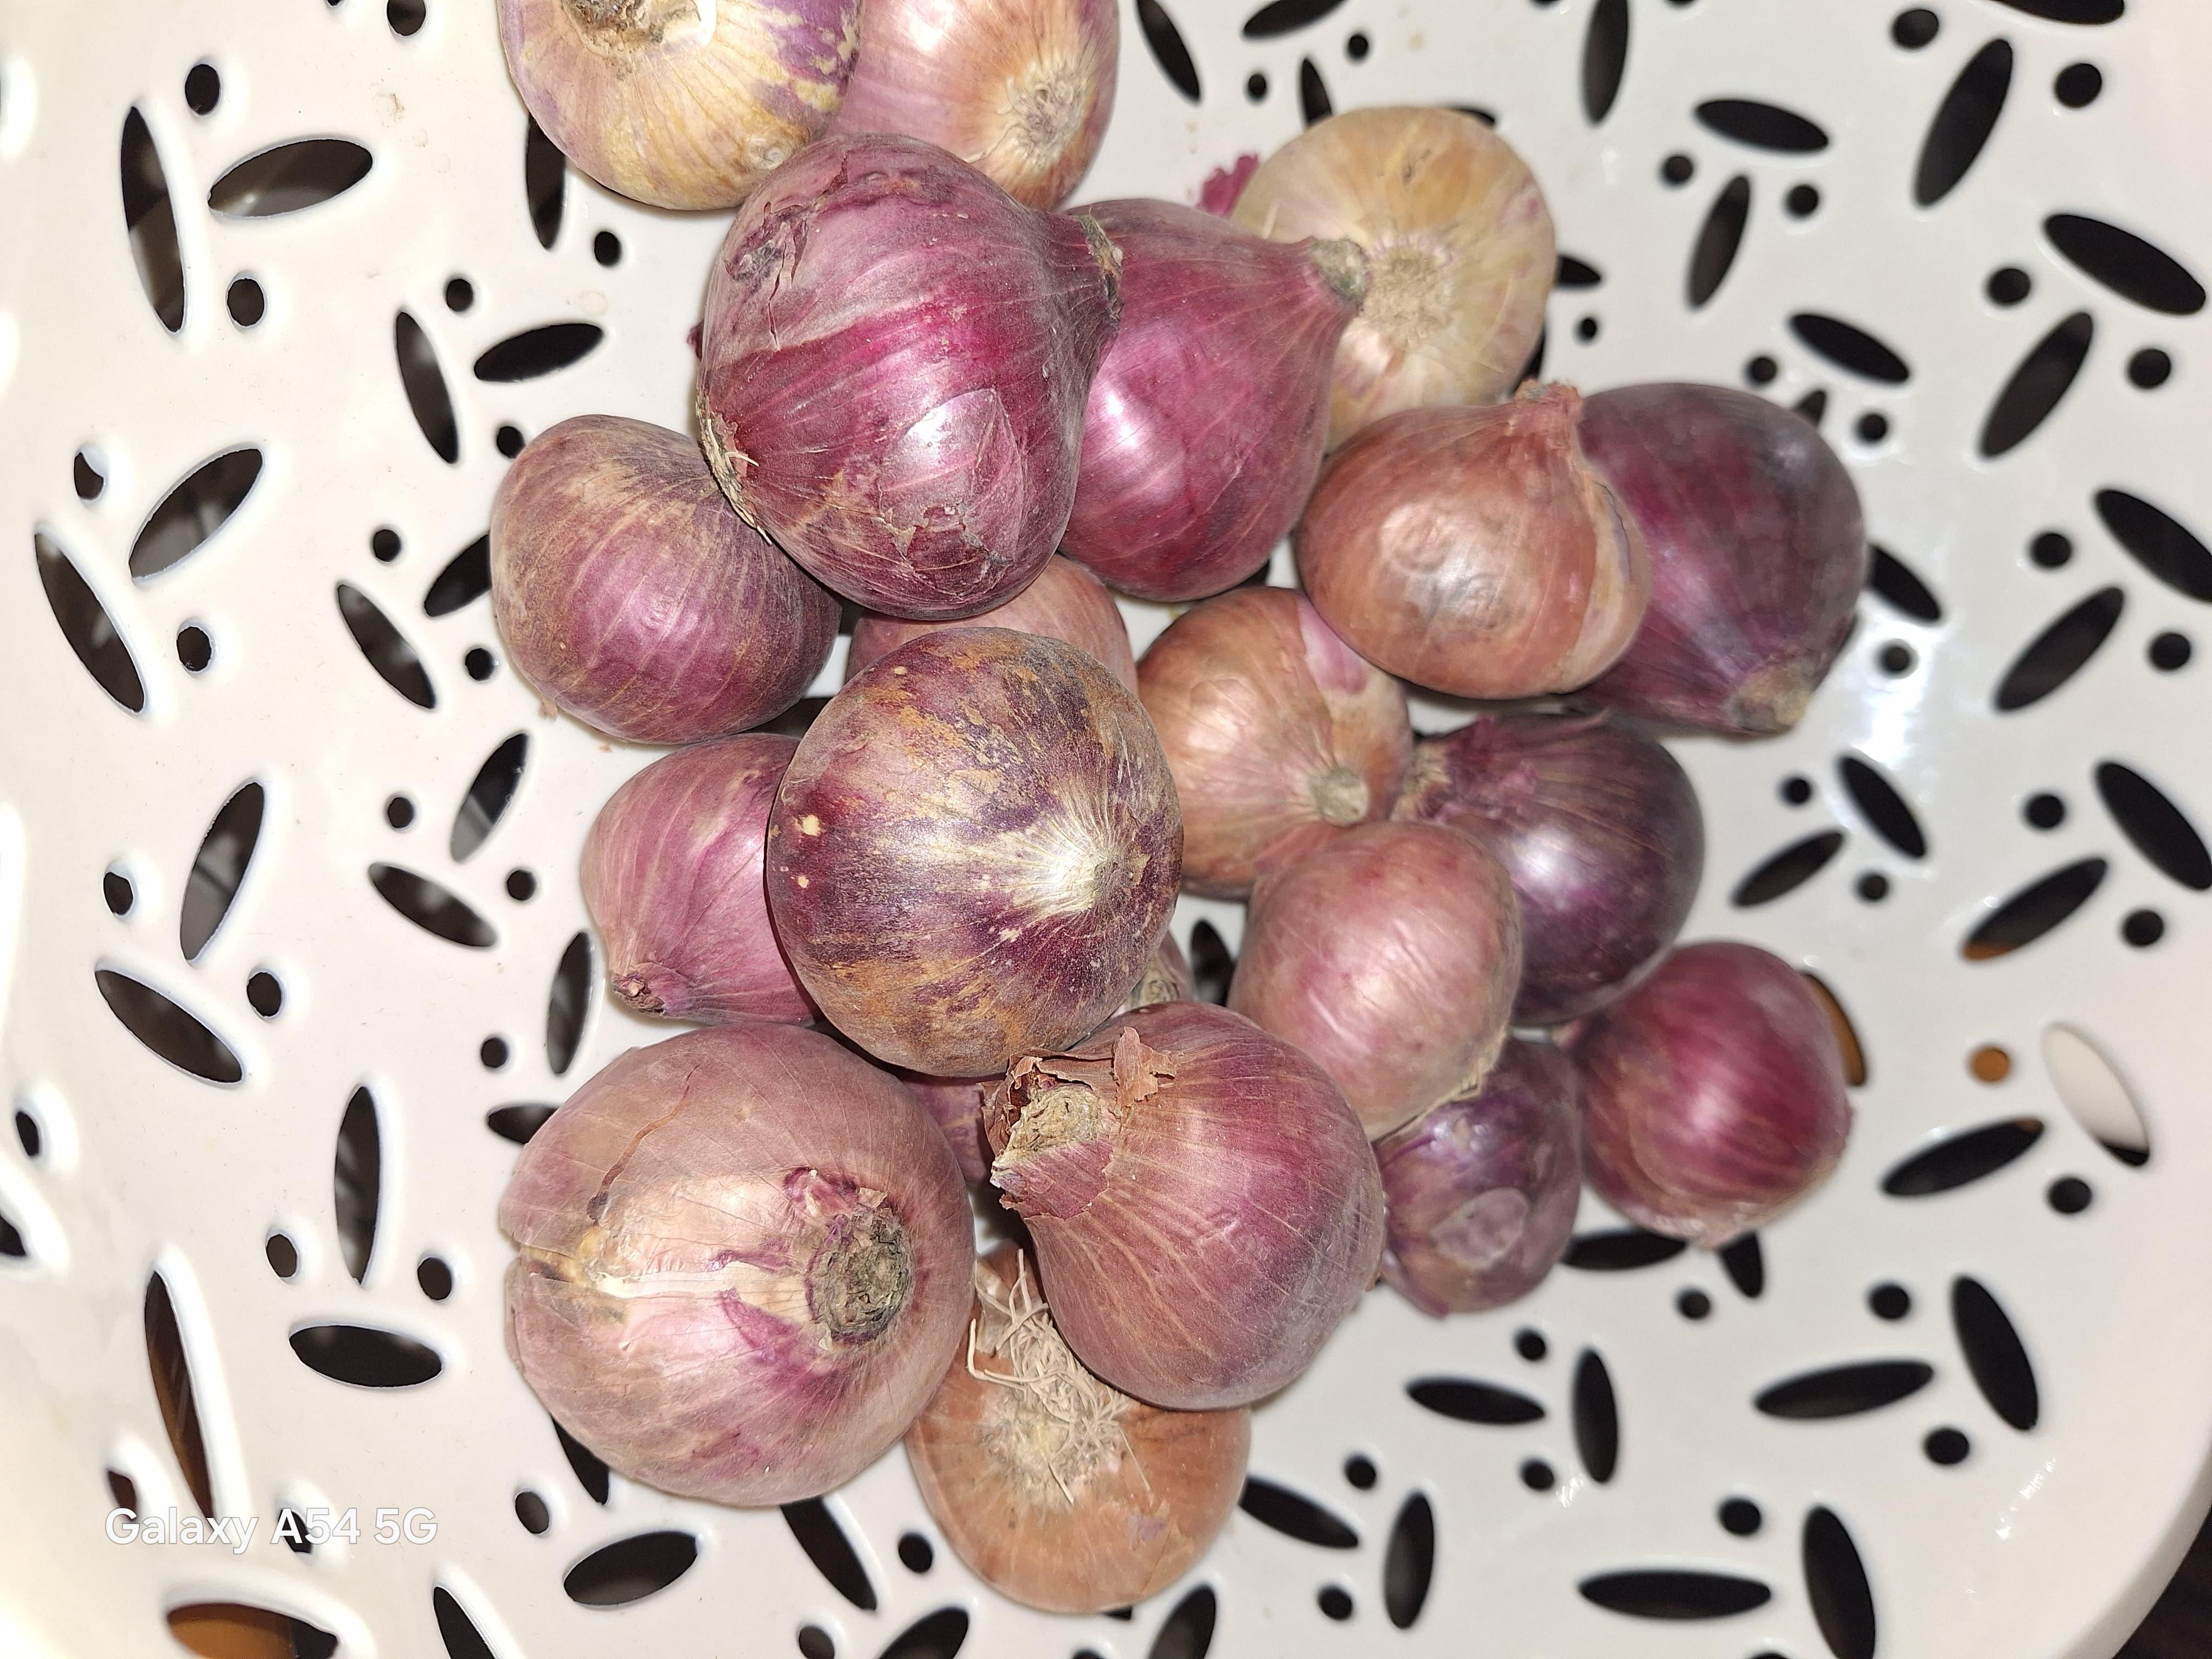non-mango: (481, 3, 1872, 1614)
